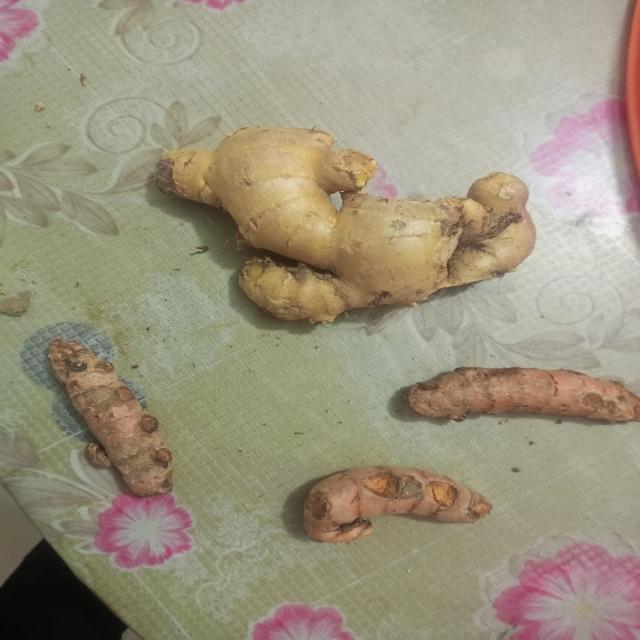ginger: (158, 129, 529, 314), (55, 341, 173, 496), (304, 466, 488, 536)
